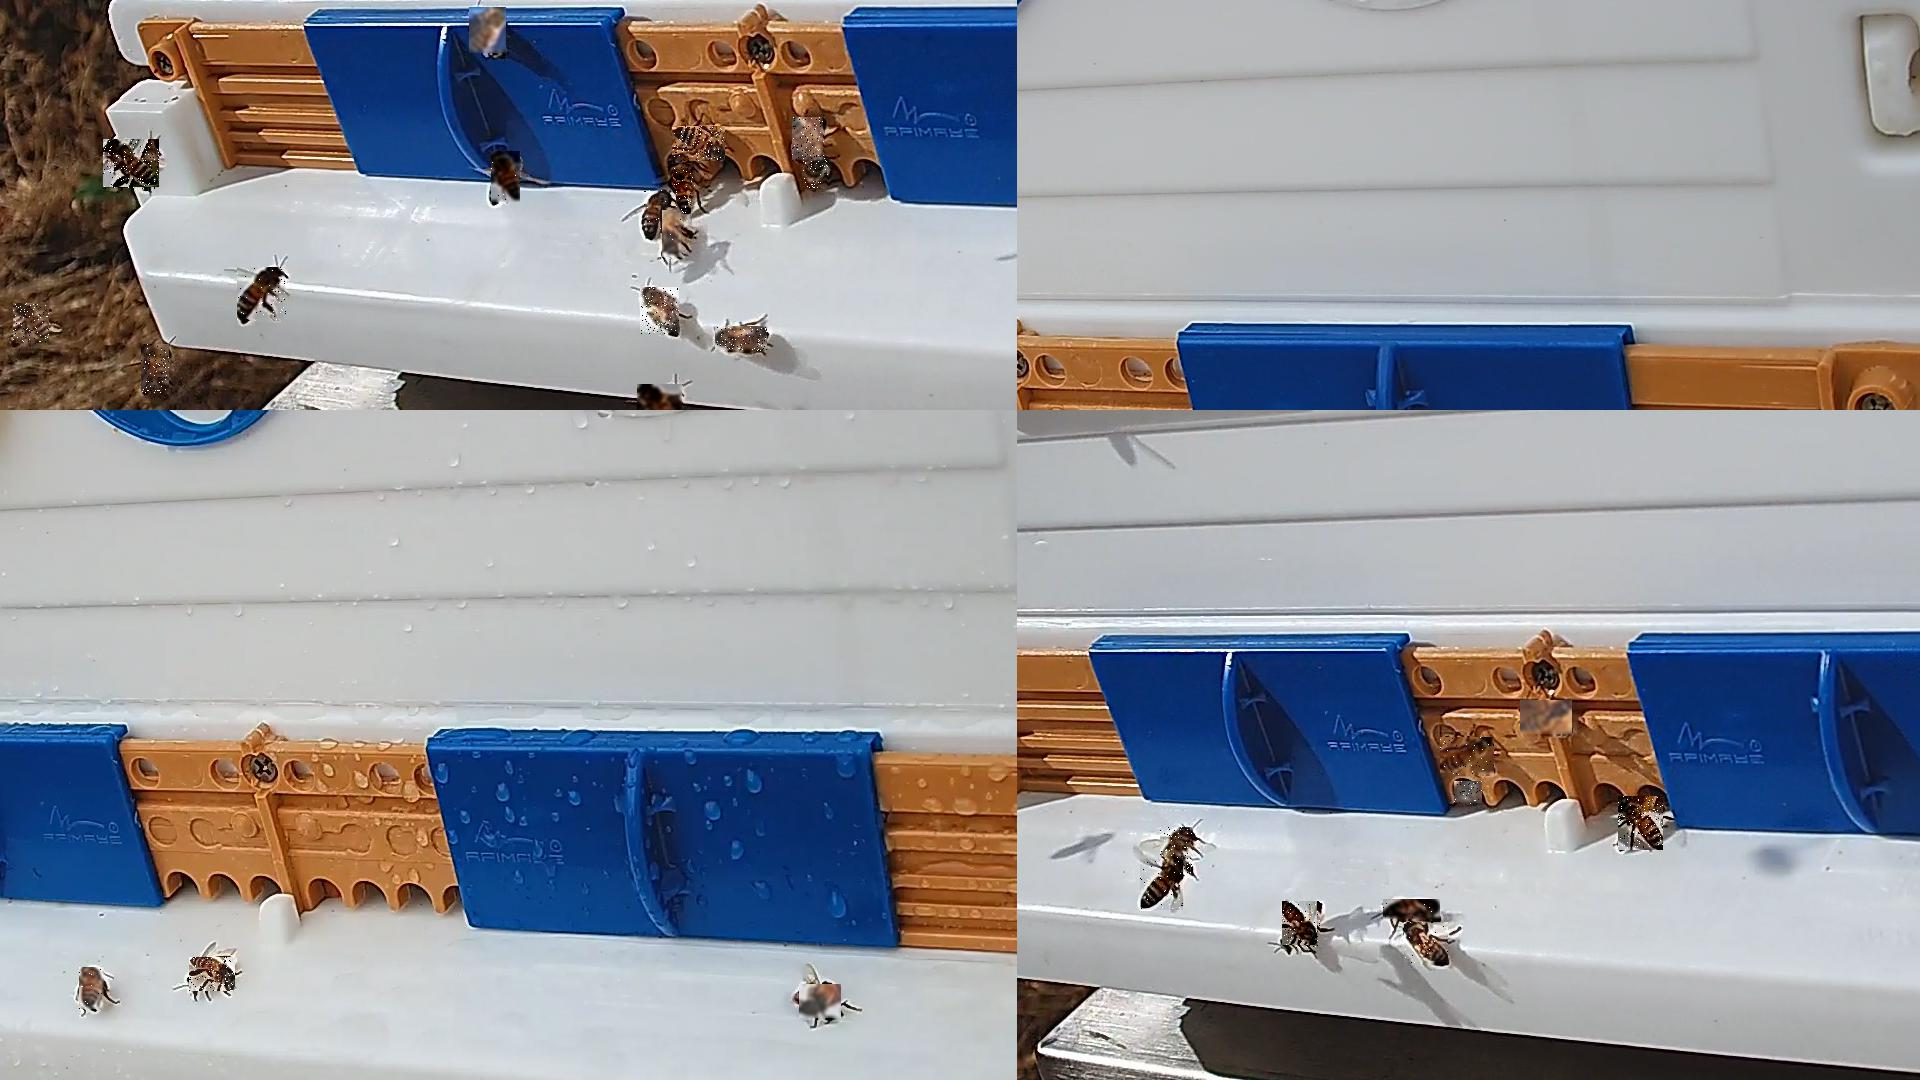bee: (103, 140, 161, 193), (237, 268, 287, 322), (1618, 796, 1664, 851), (1141, 858, 1184, 911), (1440, 737, 1495, 777), (640, 287, 680, 336), (1520, 700, 1573, 737), (673, 127, 727, 162), (1404, 923, 1449, 965), (1283, 902, 1323, 949), (469, 8, 508, 55), (189, 957, 236, 992), (1160, 828, 1193, 877), (491, 152, 521, 204), (799, 985, 843, 1021), (13, 303, 50, 344), (793, 117, 825, 162), (141, 344, 170, 394), (715, 327, 769, 352), (1383, 899, 1441, 922), (644, 190, 670, 239), (80, 968, 107, 1011), (663, 211, 684, 260), (804, 158, 829, 190), (669, 165, 699, 190), (676, 171, 692, 215), (1455, 782, 1484, 806)
pollenbee: (637, 384, 686, 409)
